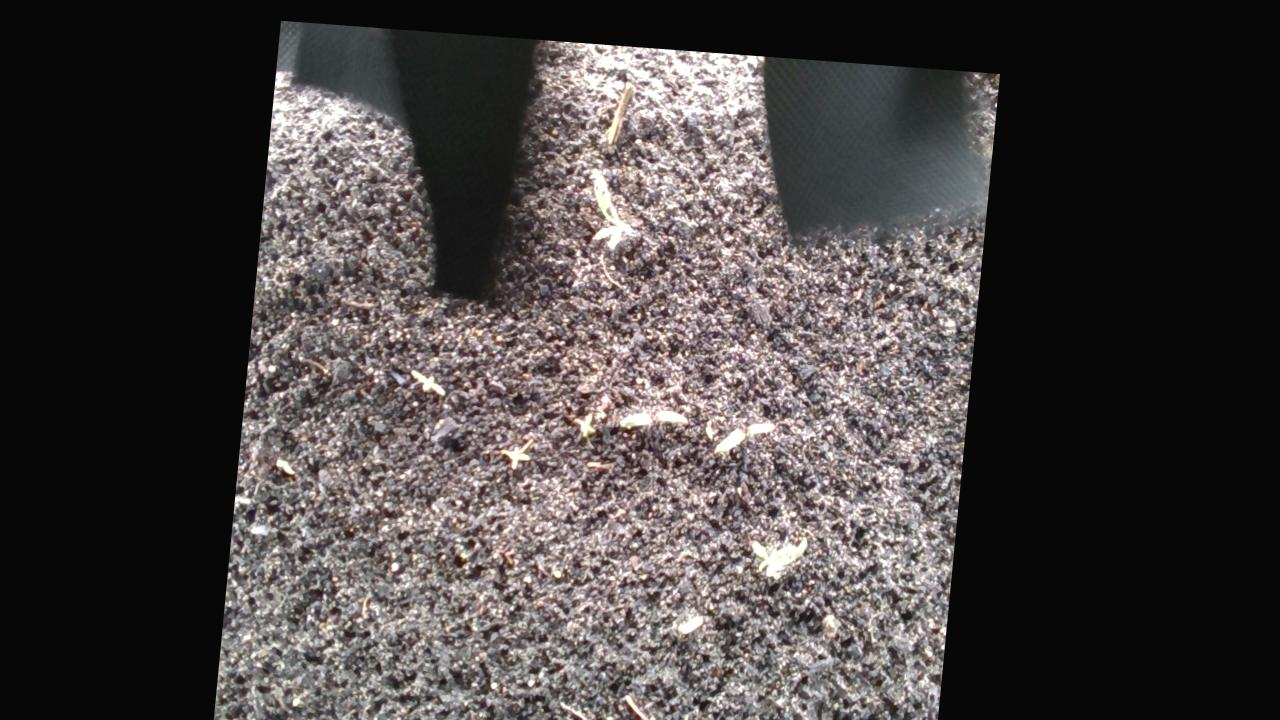weed: (705, 389, 788, 468), (625, 390, 699, 424), (507, 424, 543, 463), (416, 361, 456, 390), (581, 401, 606, 428)
